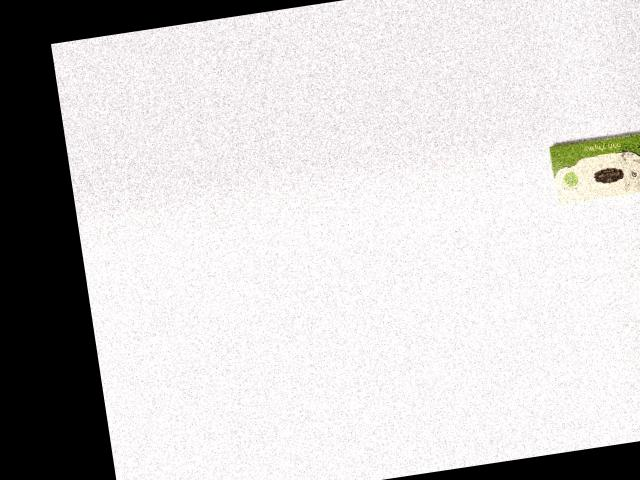chocolate: (547, 128, 640, 207)
